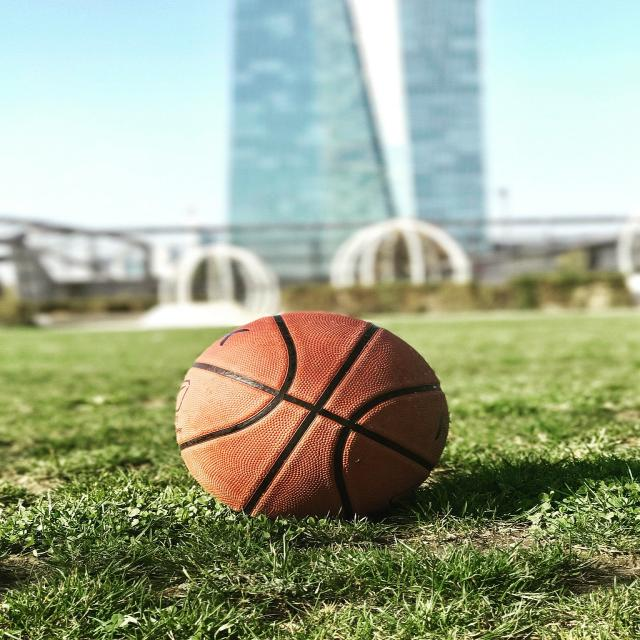Basketball: (174, 310, 450, 520)
